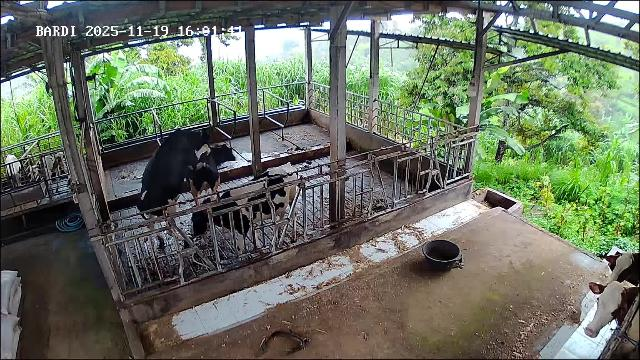mounting: (136, 125, 211, 255)
